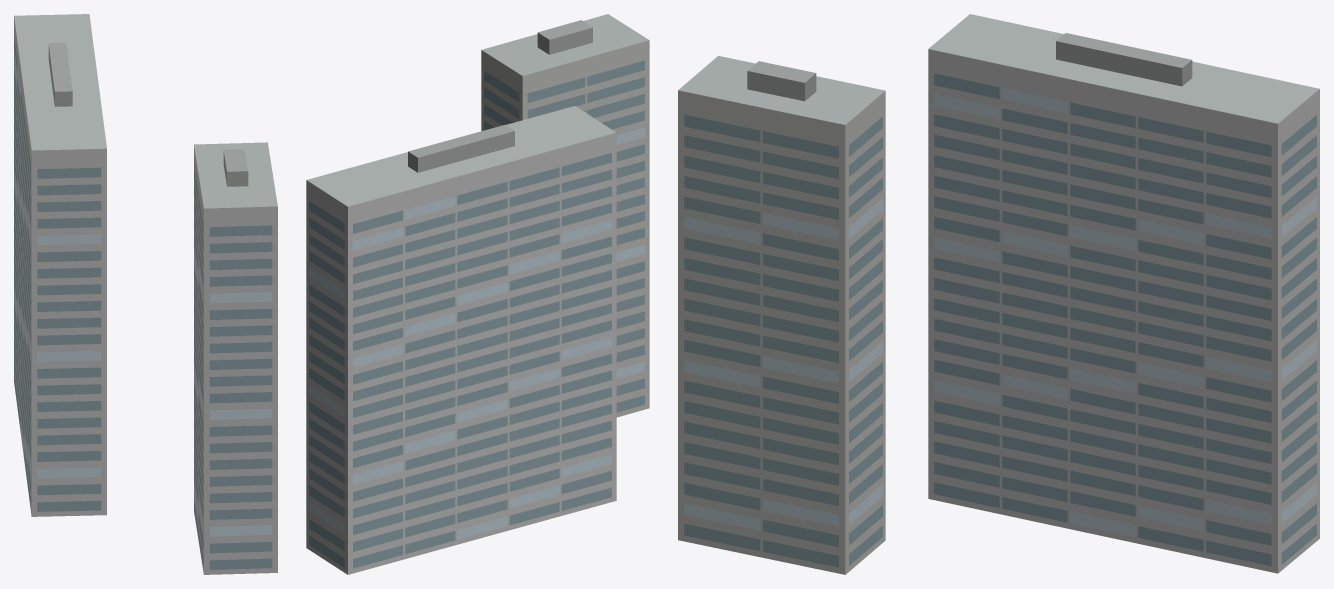
File: apt-a10024667.glb
3 views of the same model, side by side, from view 1: azimuth 30°, elevation 25°; view 2: azimuth 150°, elevation 25°; view 3: azimuth 270°, elevation 25° (orthographic). The views are drawn at different scales.
Visible parts, largest first — view 1: apt-a10024667; view 2: apt-a10024667; view 3: apt-a10024667.
Boxes of the visible parts, box(x1,y1,x2,y2) form: apt-a10024667: box(14, 14, 277, 574); apt-a10024667: box(306, 14, 649, 574); apt-a10024667: box(678, 14, 1319, 574).
Size of the model in its own units: 31.04 by 61 by 75.78.
